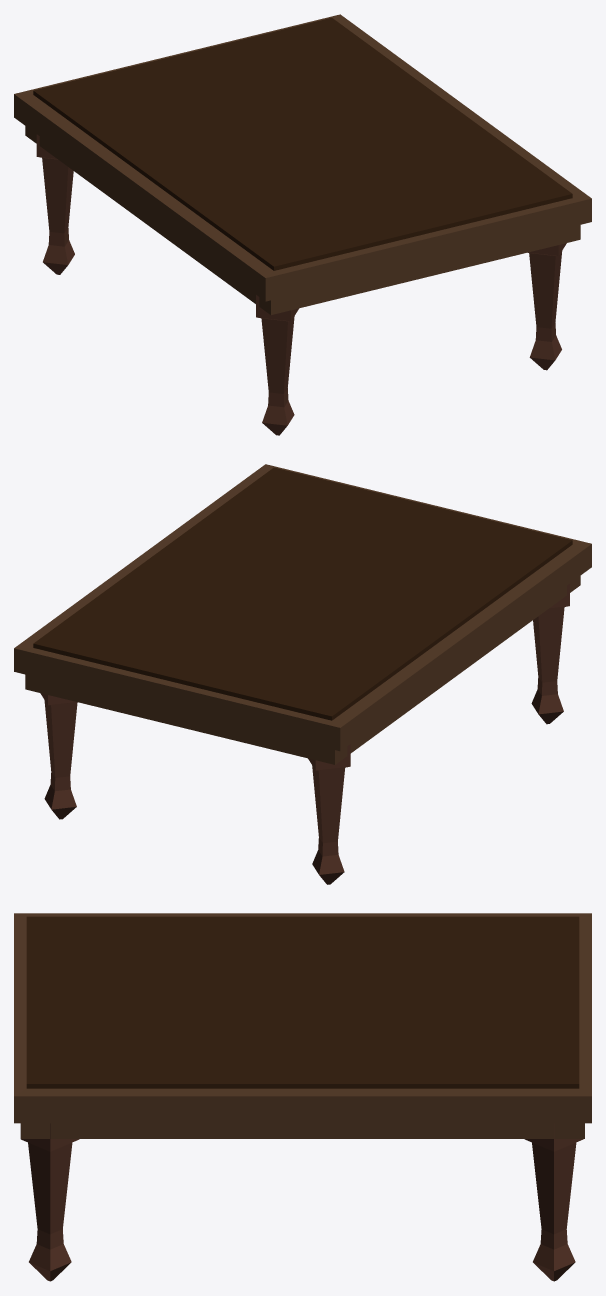
Rendered from Table 4.glb.
The picture shows the model from 3 angles, top to bottom: view 1: azimuth 30°, elevation 25°; view 2: azimuth 150°, elevation 25°; view 3: azimuth 270°, elevation 25°; orthographic projection. The views are drawn at different scales.
Visible parts, largest first — view 1: Table 4; view 2: Table 4; view 3: Table 4.
Part boxes in pixels (left/top/right/bottom): Table 4: left=14, top=14, right=591, bottom=435; Table 4: left=14, top=464, right=591, bottom=884; Table 4: left=14, top=913, right=591, bottom=1281.
Size of what is drawn, in the model's own units: 1.12 by 0.5869 by 1.5.
Materials: 1 (1 with a texture image).
